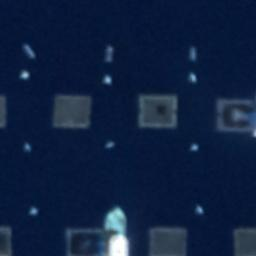square_cover: (132, 88, 184, 133), (49, 88, 98, 132), (213, 92, 256, 137), (59, 221, 113, 256), (144, 220, 196, 256), (227, 223, 256, 256), (1, 221, 15, 255), (1, 92, 11, 132)
